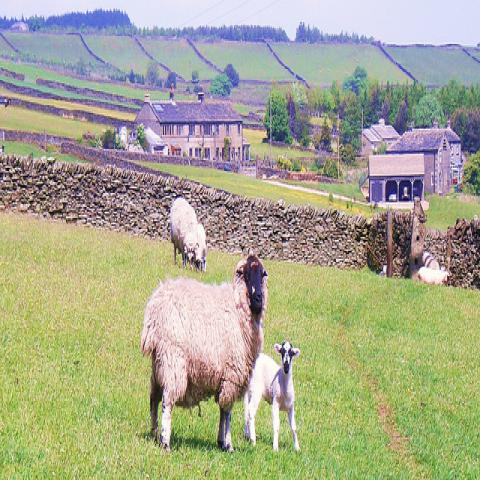car: (224, 163, 238, 172), (389, 192, 396, 202)
